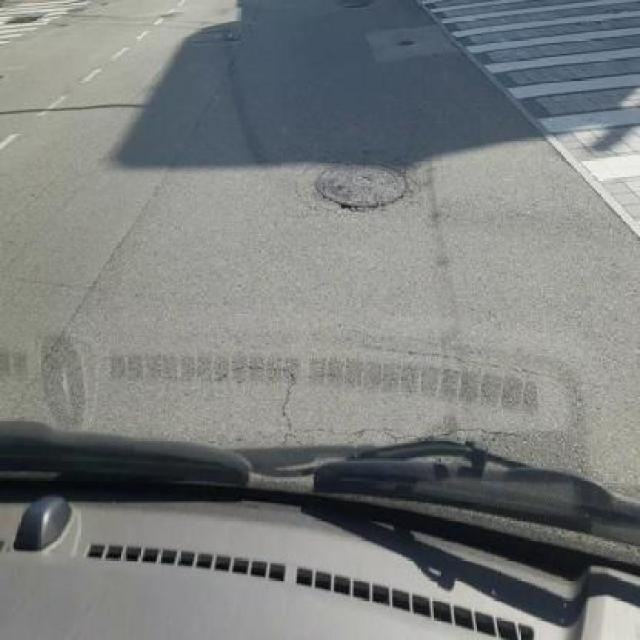Manhole: (316, 160, 410, 212), (6, 13, 42, 25)
Pothole: (394, 36, 416, 48)
